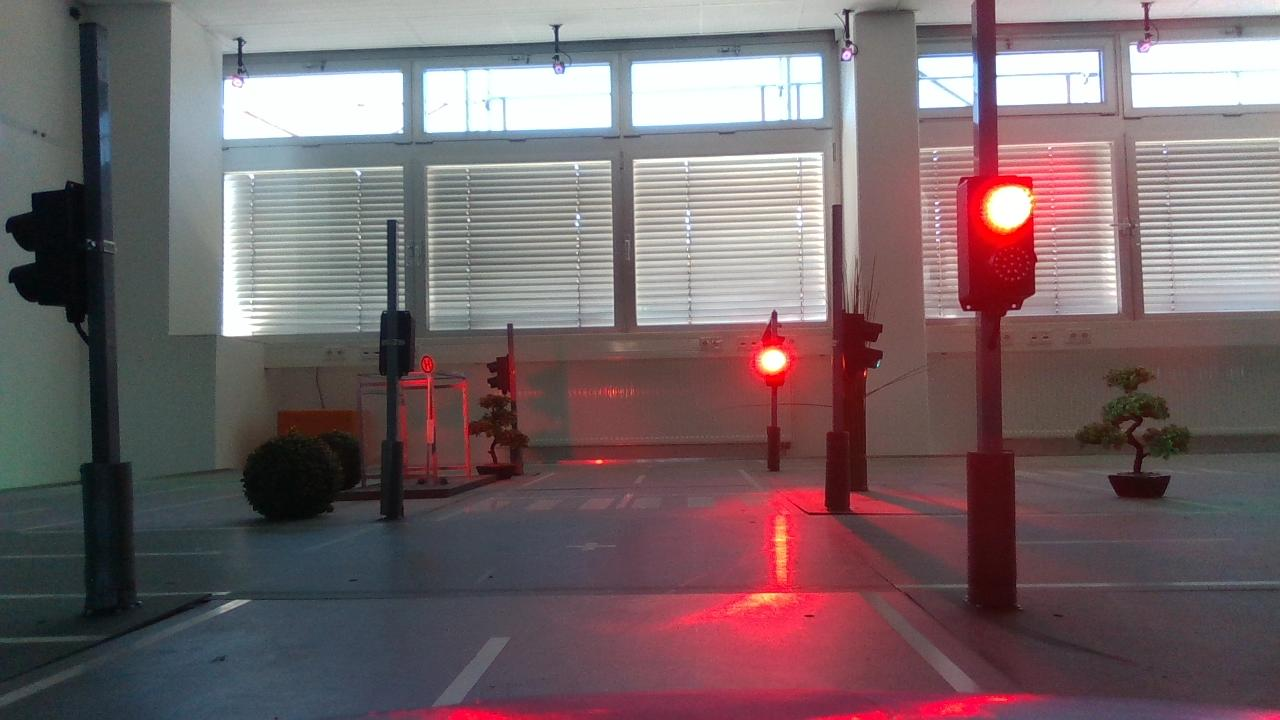traffic_light_red: (932, 161, 1047, 322)
